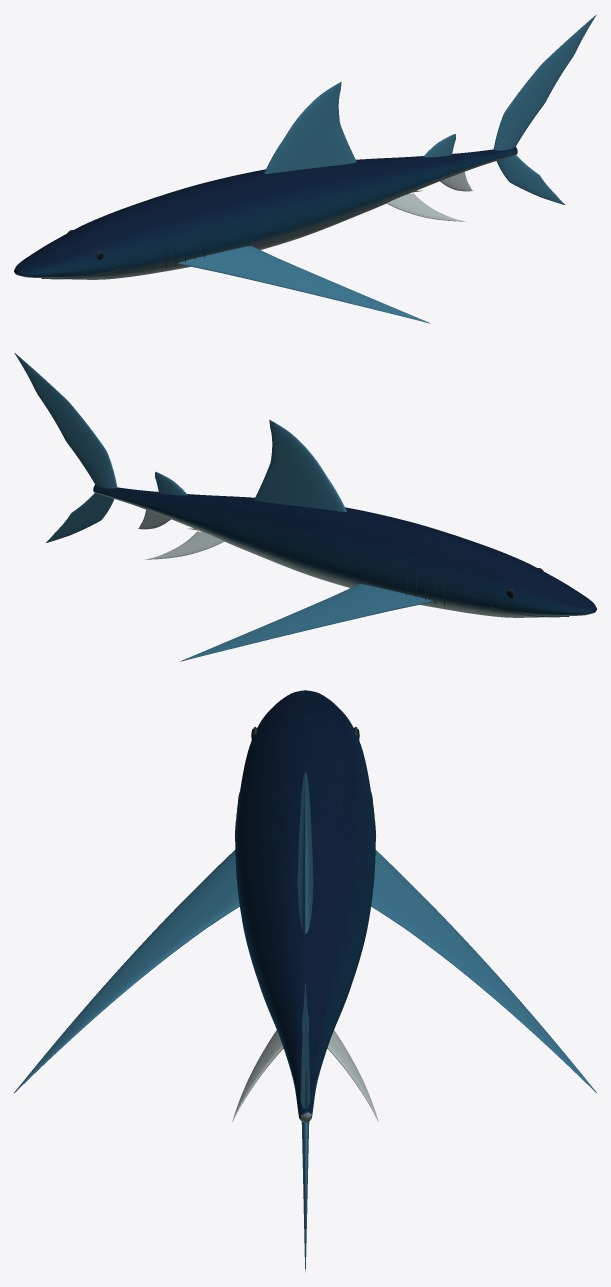
File: blue-shark-v4.glb
3 views of the same model, one above another, from view 1: azimuth 30°, elevation 25°; view 2: azimuth 150°, elevation 25°; view 3: azimuth 270°, elevation 25° (orthographic). The views are drawn at different scales.
Visible parts, largest first — view 1: Shark_FusiformBody, Shark_Pectoral_-1, Shark_Dorsal, Shark_Caudal_Upper, Shark_Caudal_Lower, Shark_Pelvic_-1, Shark_Second_Dorsal; view 2: Shark_FusiformBody, Shark_Pectoral_1, Shark_Dorsal, Shark_Caudal_Upper, Shark_Caudal_Lower, Shark_Pelvic_1, Shark_Second_Dorsal; view 3: Shark_FusiformBody, Shark_Pectoral_-1, Shark_Pectoral_1, Shark_Dorsal, Shark_Pelvic_-1, Shark_Pelvic_1, Shark_Caudal_Upper.
Boxes of the visible parts, x1,y1,x2,y2 form: Shark_FusiformBody: [14, 147, 517, 279]; Shark_Pectoral_-1: [177, 246, 430, 323]; Shark_Dorsal: [264, 82, 356, 173]; Shark_Caudal_Upper: [493, 14, 596, 150]; Shark_Caudal_Lower: [496, 155, 564, 204]; Shark_Pelvic_-1: [386, 193, 465, 221]; Shark_Second_Dorsal: [423, 133, 455, 157]; Shark_FusiformBody: [93, 485, 596, 617]; Shark_Pectoral_1: [180, 584, 433, 661]; Shark_Dorsal: [254, 420, 346, 511]; Shark_Caudal_Upper: [14, 352, 117, 488]; Shark_Caudal_Lower: [46, 493, 114, 542]; Shark_Pelvic_1: [145, 531, 224, 559]; Shark_Second_Dorsal: [155, 471, 187, 495]; Shark_FusiformBody: [235, 690, 375, 1122]; Shark_Pectoral_-1: [14, 850, 239, 1093]; Shark_Pectoral_1: [371, 850, 596, 1093]; Shark_Dorsal: [297, 772, 313, 934]; Shark_Pelvic_-1: [232, 1030, 283, 1121]; Shark_Pelvic_1: [327, 1030, 378, 1121]; Shark_Caudal_Upper: [300, 983, 310, 1108].
Bounding box in the file's own units: 3.66 × 1.12 × 1.84.
6 materials, 1 textured.
